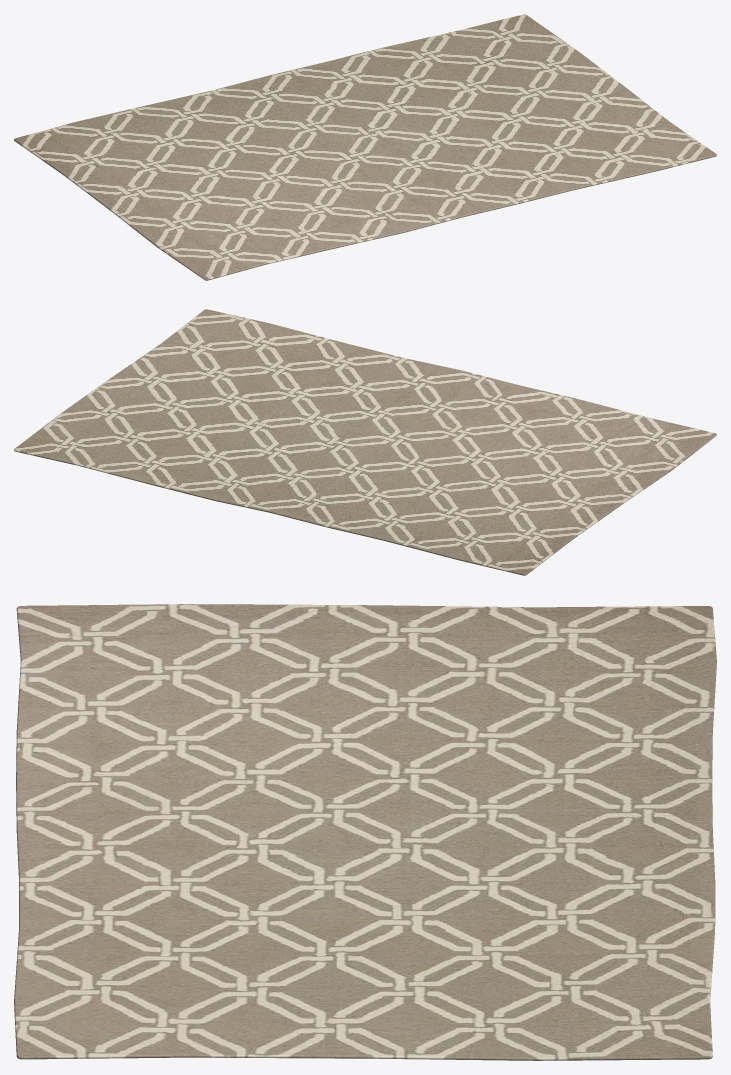
File: abo-B072C5WP1M.glb
The picture shows the model from 3 angles, top to bottom: view 1: azimuth 30°, elevation 25°; view 2: azimuth 150°, elevation 25°; view 3: azimuth 270°, elevation 25°; orthographic projection. The views are drawn at different scales.
Bounding box in the file's own units: 1.75 × 0.01 × 1.14.
Materials: 1 (1 with a texture image).
